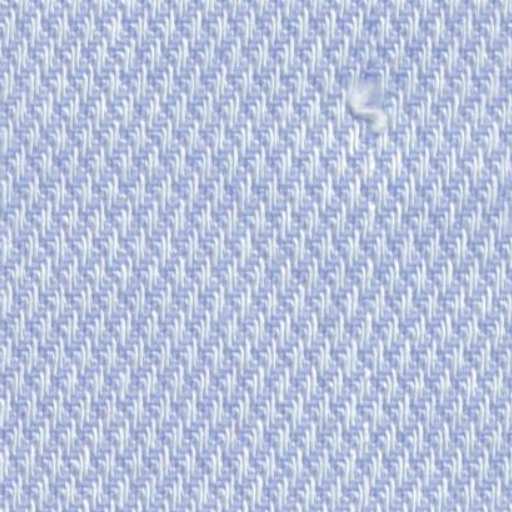DuanSha: (336, 66, 400, 143)
